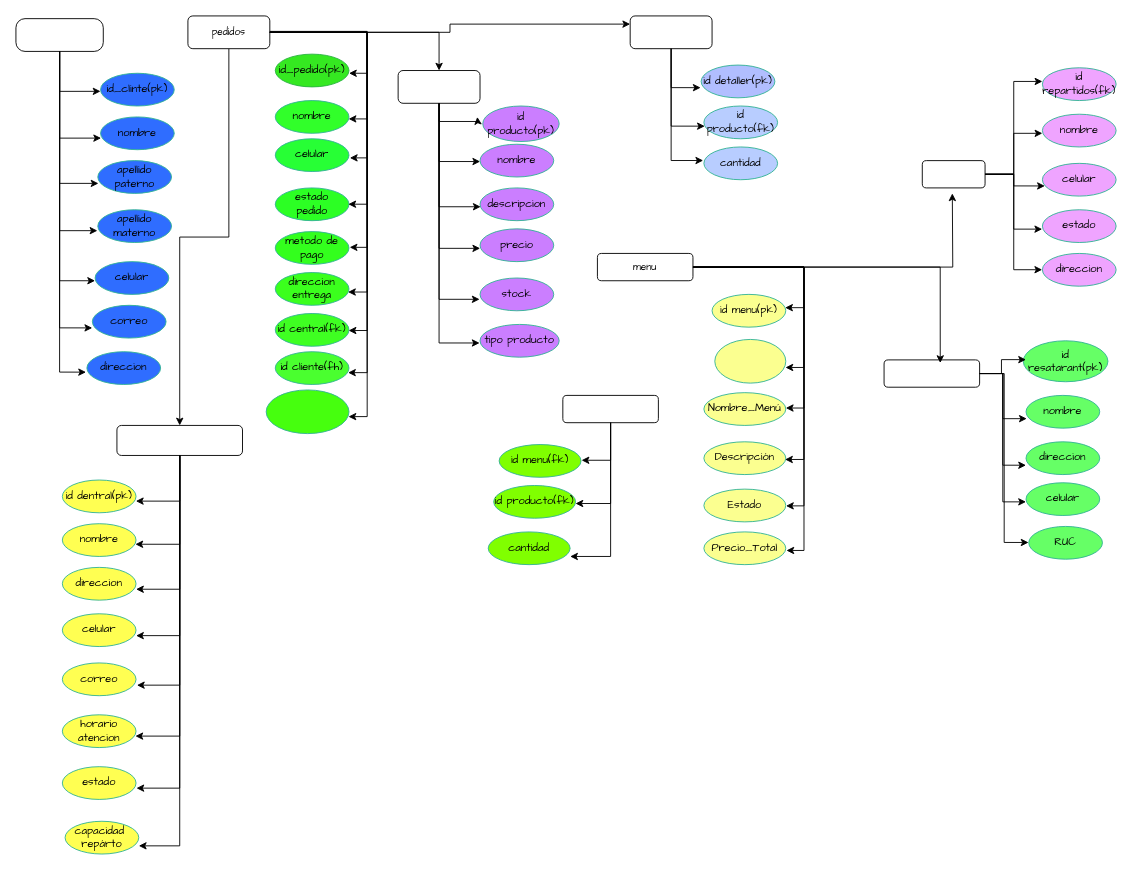
Image size: 1132x870. Some labels were removed from this diagram. The shapes that lost their labels are listed below. From the top down, each one's centre as x and y in pixels, then its label:
At (x=59, y=34): "Cliente".
At (x=670, y=32): "detalle pedido".
At (x=438, y=86): "producto".
At (x=953, y=174): "repartidor".
At (x=750, y=361): "id Restaurante (FK)".
At (x=931, y=373): "restarante".
At (x=307, y=411): "id repartudos(fk)".
At (x=610, y=408): "producto menu".
At (x=179, y=440): "central delivery".
